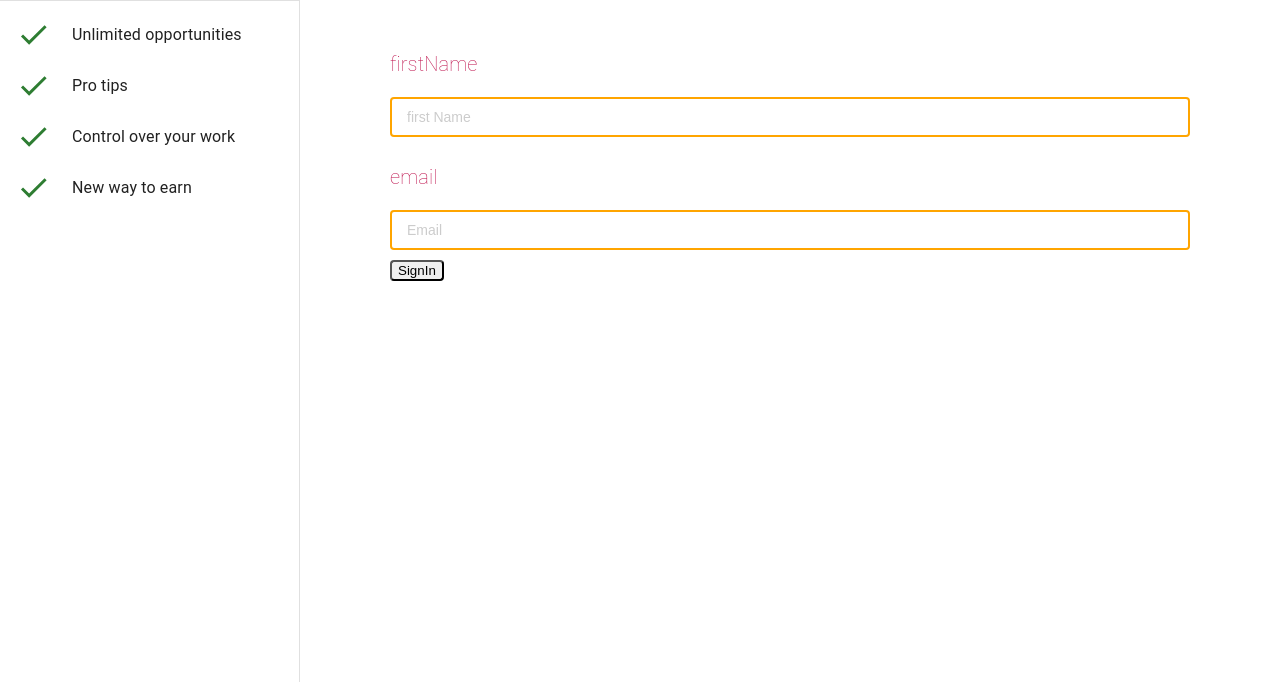
Test: should show a required field error for each empty input field
Click the button "SignIn": {"x": 417, "y": 270} [390,260,444,281]
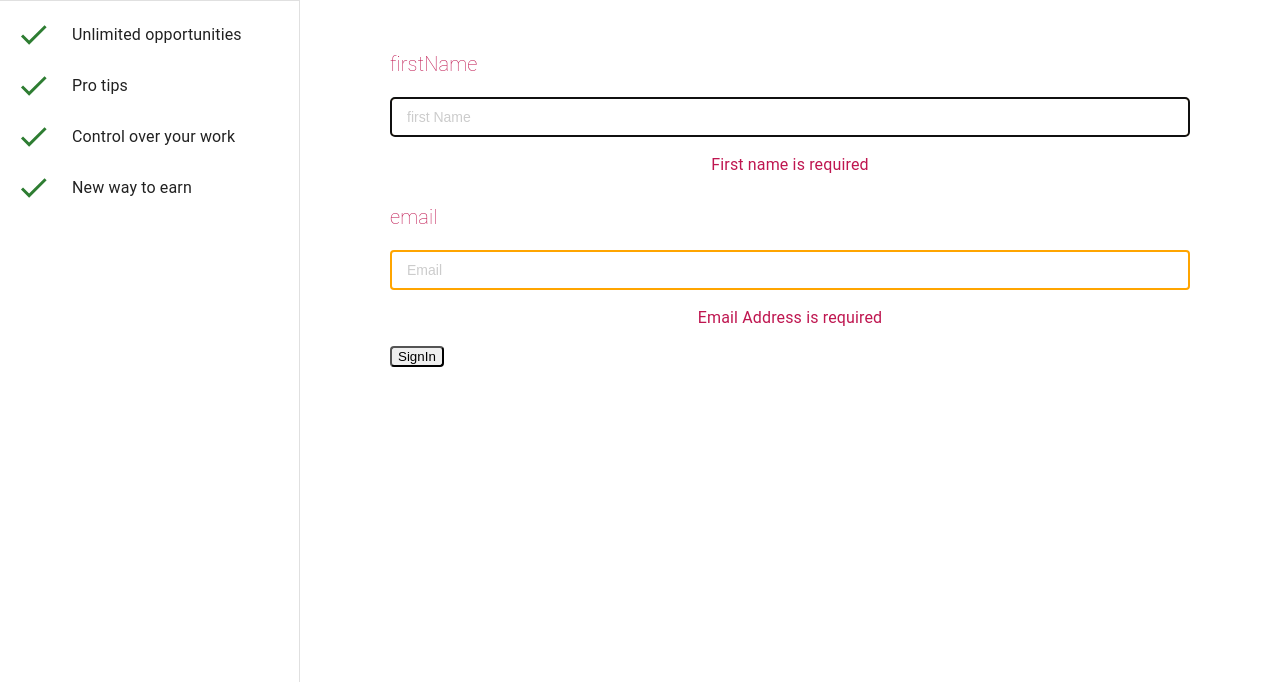
Expected: the text "First name is required" is shown, [711,155,869,174]
Expected: the text "Email Address is required" is shown, [698,308,882,327]
